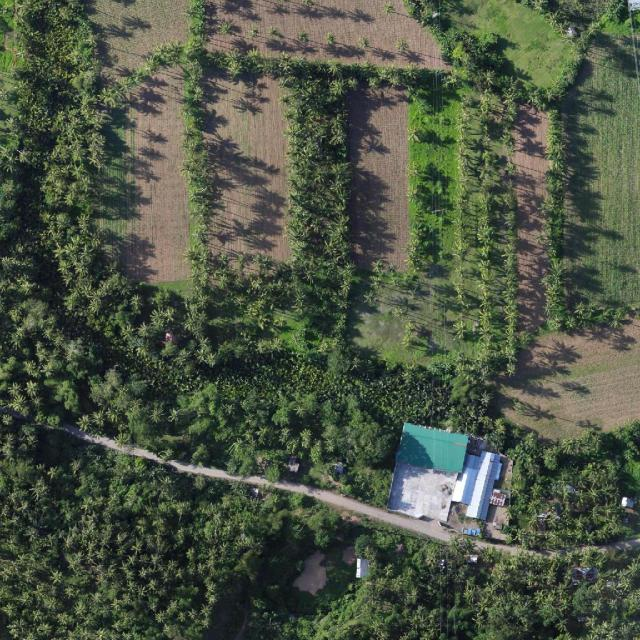agricultural_land: (103, 66, 190, 283), (206, 73, 290, 262), (349, 90, 409, 268)
building: (446, 444, 507, 523), (387, 461, 458, 524), (394, 421, 470, 476)
greenland: (508, 421, 640, 549)
